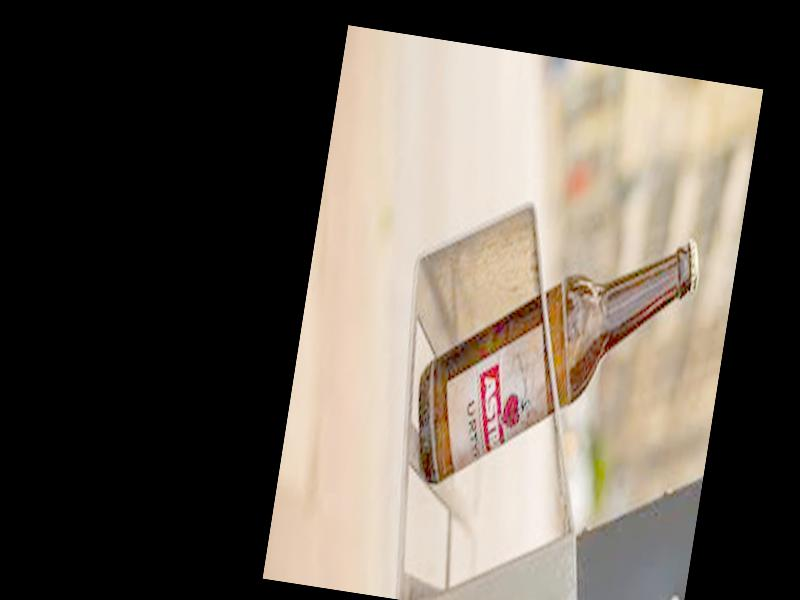Beer: (403, 198, 705, 523)
